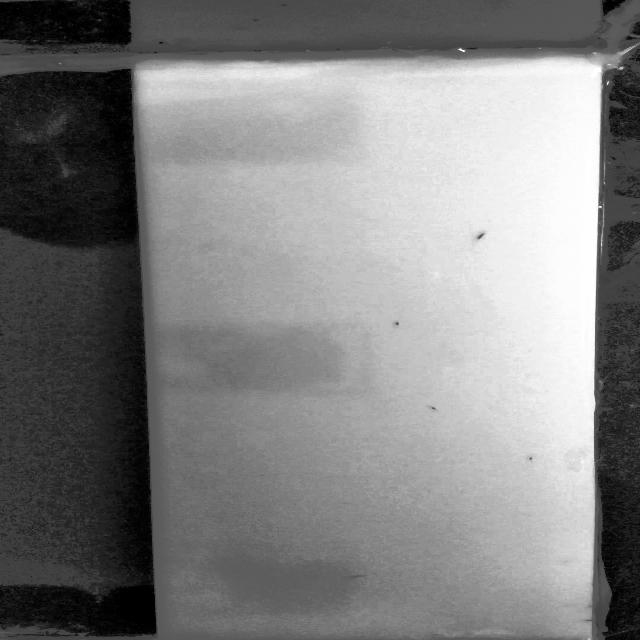shrimp: (414, 397, 455, 418), (464, 228, 500, 250), (341, 569, 378, 588), (382, 316, 411, 332)
